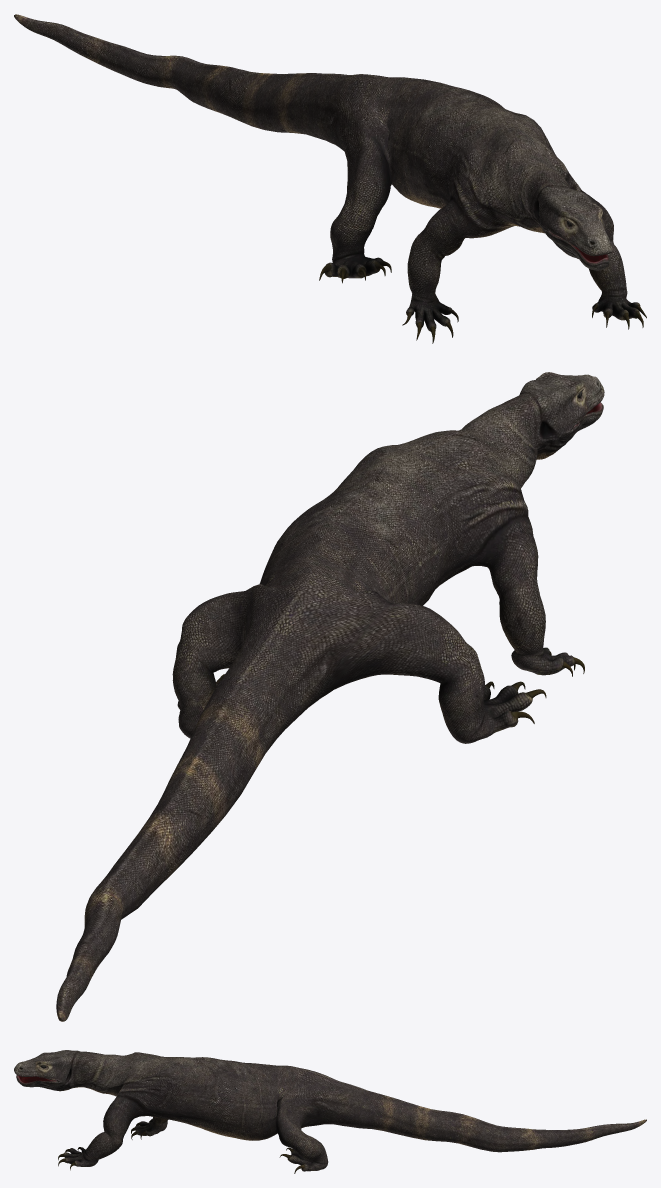
Rendered from komodo-lite.glb.
The picture shows the model from 3 angles, top to bottom: view 1: azimuth 30°, elevation 25°; view 2: azimuth 150°, elevation 25°; view 3: azimuth 270°, elevation 25°; orthographic projection. The views are drawn at different scales.
Parts seen in each view (by area): view 1: Body; view 2: Body; view 3: Body.
Part boxes in pixels (<box>): Body: <box>14,14,646,343</box>; Body: <box>56,372,604,1021</box>; Body: <box>14,1050,646,1173</box>.
Bounding box in the file's own units: 0.6904 × 0.5073 × 2.68.
Materials: 1 (1 with a texture image).
